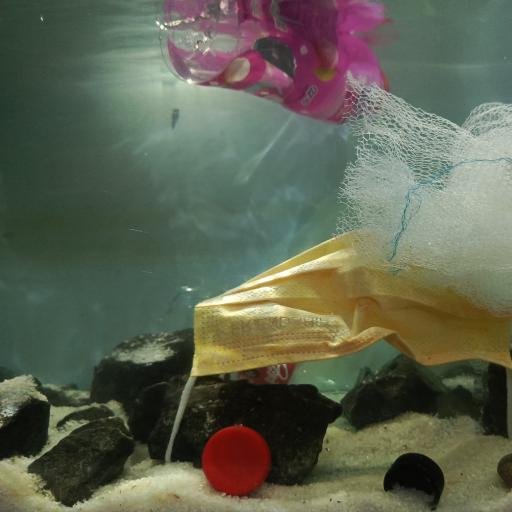bottle_cap: (202, 424, 272, 493), (383, 452, 446, 512)
mask: (191, 221, 512, 375)
net: (338, 73, 512, 321)
plastic_bottle: (165, 278, 377, 392), (158, 18, 390, 121)
